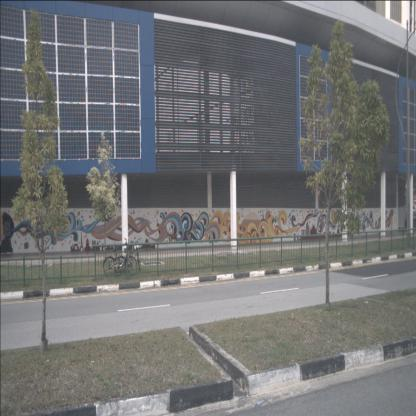vehicle-bicycle: (103, 238, 137, 276), (130, 238, 142, 272)
